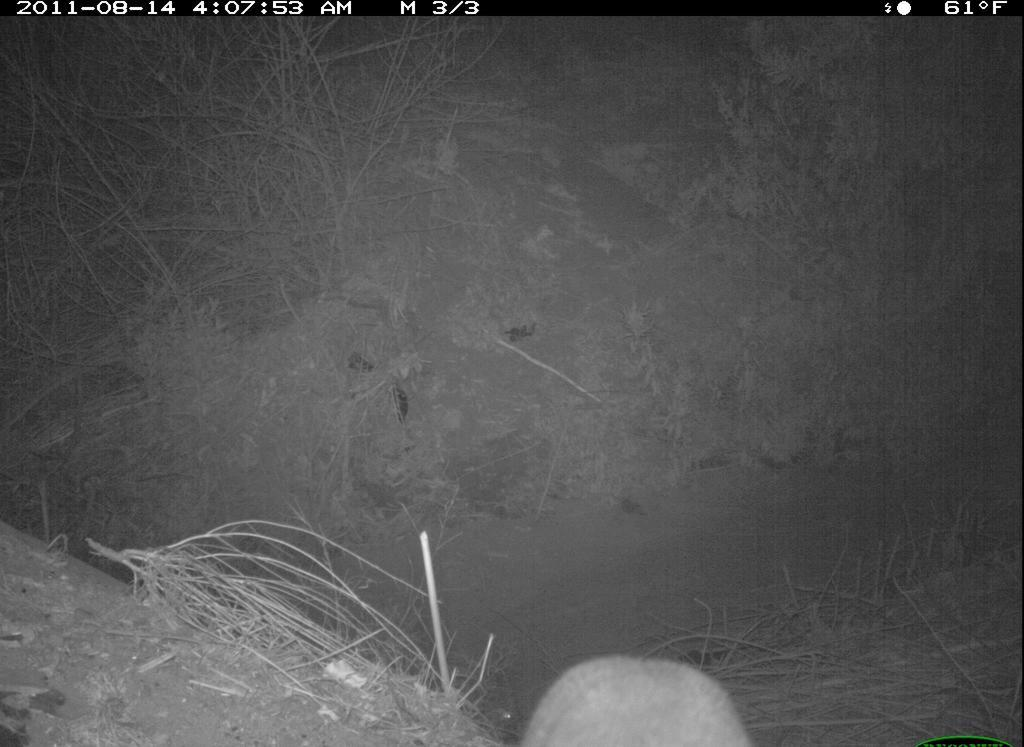cat: (515, 647, 769, 747)
